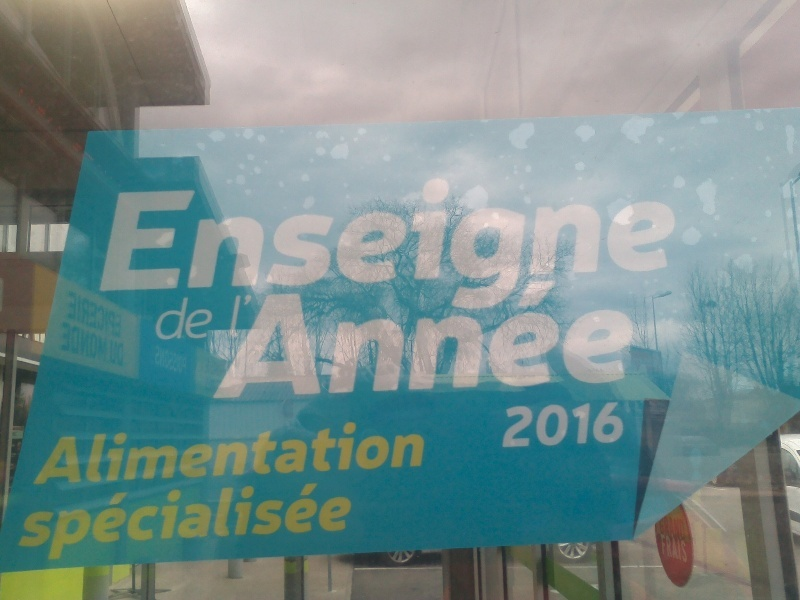text: (129, 175, 144, 317), (145, 175, 160, 317), (161, 175, 176, 317), (177, 175, 192, 317), (193, 175, 208, 317), (209, 175, 224, 317), (225, 175, 240, 317), (241, 175, 256, 317), (257, 175, 272, 317), (273, 175, 288, 317), (289, 175, 304, 317), (305, 175, 320, 317), (321, 175, 336, 317), (337, 175, 352, 317), (353, 175, 368, 317), (369, 175, 384, 317), (385, 175, 400, 317), (401, 175, 416, 317), (417, 175, 432, 317), (433, 175, 448, 317), (449, 175, 464, 317), (465, 175, 480, 317), (481, 175, 496, 317), (497, 175, 512, 317), (513, 175, 528, 317), (529, 175, 544, 317), (545, 175, 560, 317), (561, 175, 576, 317), (577, 175, 592, 317), (593, 175, 608, 317), (609, 175, 624, 317), (625, 175, 640, 317), (641, 175, 656, 317), (657, 175, 672, 317), (289, 278, 304, 398), (305, 278, 320, 398), (321, 278, 336, 398), (337, 278, 352, 398), (353, 278, 368, 398), (369, 278, 384, 398), (385, 278, 400, 398), (401, 278, 416, 398), (417, 278, 432, 398), (433, 278, 448, 398), (449, 278, 464, 398), (465, 278, 480, 398), (481, 278, 496, 398), (497, 278, 512, 398), (513, 278, 528, 398), (529, 278, 544, 398), (545, 278, 560, 398), (561, 278, 576, 398), (577, 278, 592, 398), (593, 278, 608, 398), (609, 278, 624, 398), (276, 278, 288, 398), (33, 479, 48, 563), (49, 479, 64, 563), (65, 479, 80, 563), (81, 479, 96, 563), (97, 479, 112, 563), (113, 479, 128, 563), (129, 479, 144, 563), (145, 479, 160, 563), (161, 479, 176, 563), (177, 479, 192, 563), (193, 479, 208, 563), (209, 479, 224, 563), (225, 479, 240, 563), (241, 479, 256, 563), (257, 479, 272, 563), (273, 479, 288, 563), (289, 479, 304, 563), (305, 479, 320, 563), (321, 479, 336, 563), (337, 479, 352, 563), (120, 175, 128, 317), (625, 278, 634, 398), (65, 418, 80, 486), (81, 418, 96, 486), (97, 418, 112, 486), (113, 418, 128, 486), (129, 418, 144, 486), (145, 418, 160, 486), (161, 418, 176, 486), (177, 418, 192, 486), (193, 418, 208, 486), (209, 418, 224, 486), (225, 418, 240, 486), (241, 418, 256, 486), (257, 418, 272, 486), (273, 418, 288, 486), (289, 418, 304, 486), (305, 418, 320, 486), (321, 418, 336, 486), (337, 418, 352, 486), (353, 418, 368, 486), (369, 418, 384, 486), (385, 418, 400, 486), (401, 418, 416, 486), (673, 175, 679, 317), (81, 288, 96, 344), (97, 288, 112, 344), (609, 401, 625, 449), (65, 321, 80, 372), (81, 321, 96, 372), (97, 321, 112, 372), (67, 288, 80, 344), (161, 295, 176, 343), (177, 295, 192, 343), (193, 295, 208, 343), (513, 401, 528, 449), (529, 401, 544, 449), (545, 401, 560, 449), (561, 401, 576, 449), (577, 401, 592, 449), (593, 401, 608, 449), (417, 418, 427, 486), (113, 321, 126, 372), (113, 288, 124, 344), (241, 293, 254, 340), (673, 533, 689, 564), (161, 345, 176, 376), (657, 512, 672, 541), (209, 295, 218, 343), (659, 533, 672, 564), (673, 512, 686, 541), (177, 345, 189, 376), (505, 401, 512, 449), (353, 479, 357, 563), (237, 293, 240, 340), (62, 418, 64, 486), (62, 321, 64, 372), (31, 479, 32, 563), (158, 345, 160, 376)
